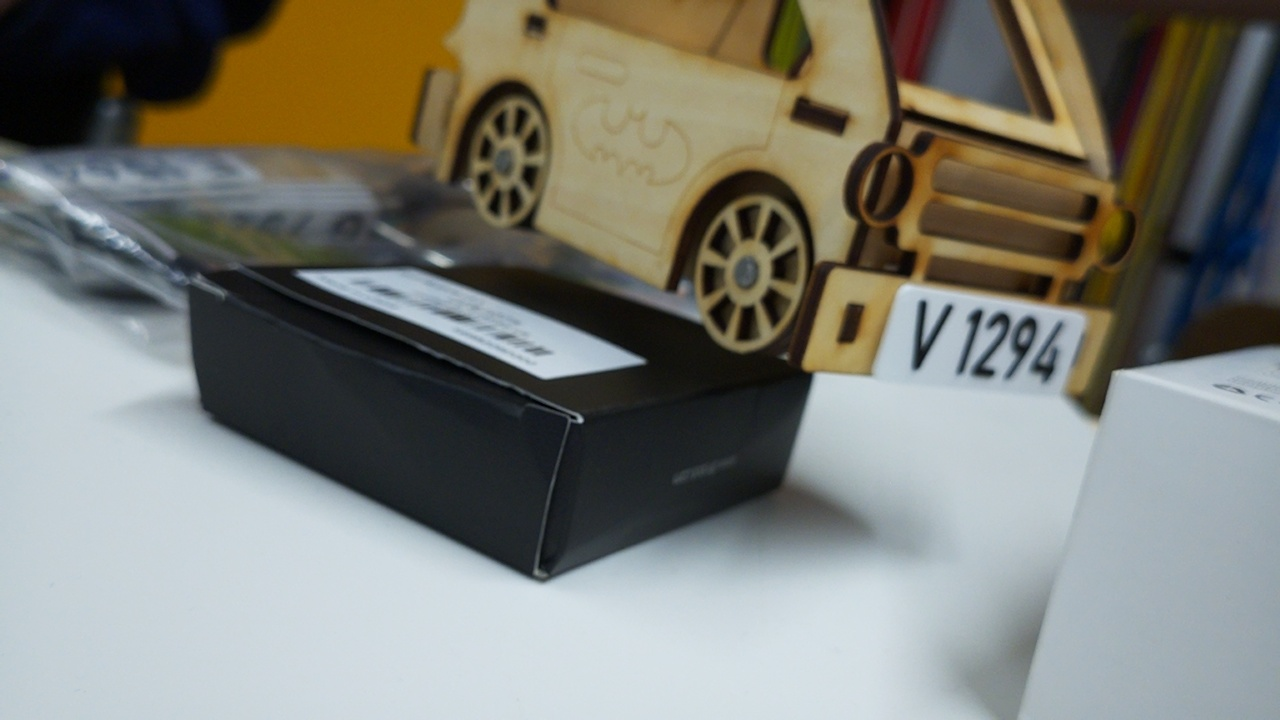license_plate: (866, 282, 1088, 399)
